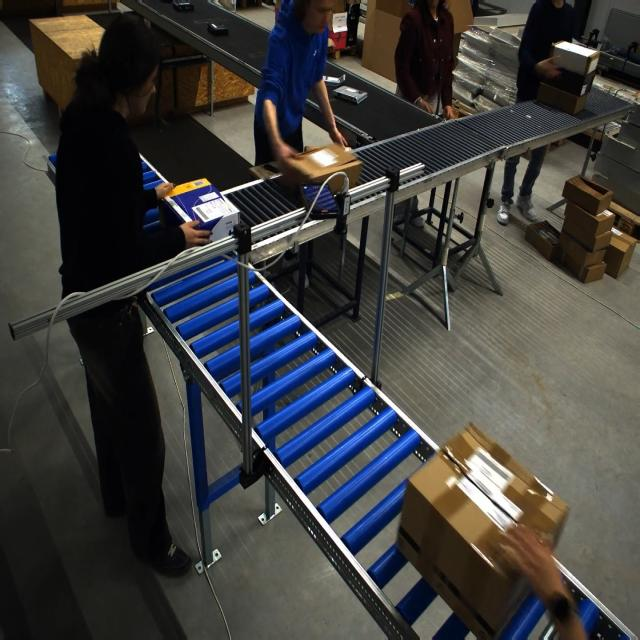box: (402, 427, 570, 638), (159, 177, 238, 243), (288, 144, 354, 196), (550, 41, 599, 78)
product: (332, 85, 366, 105), (323, 73, 346, 87), (207, 22, 228, 35), (173, 0, 194, 12)
